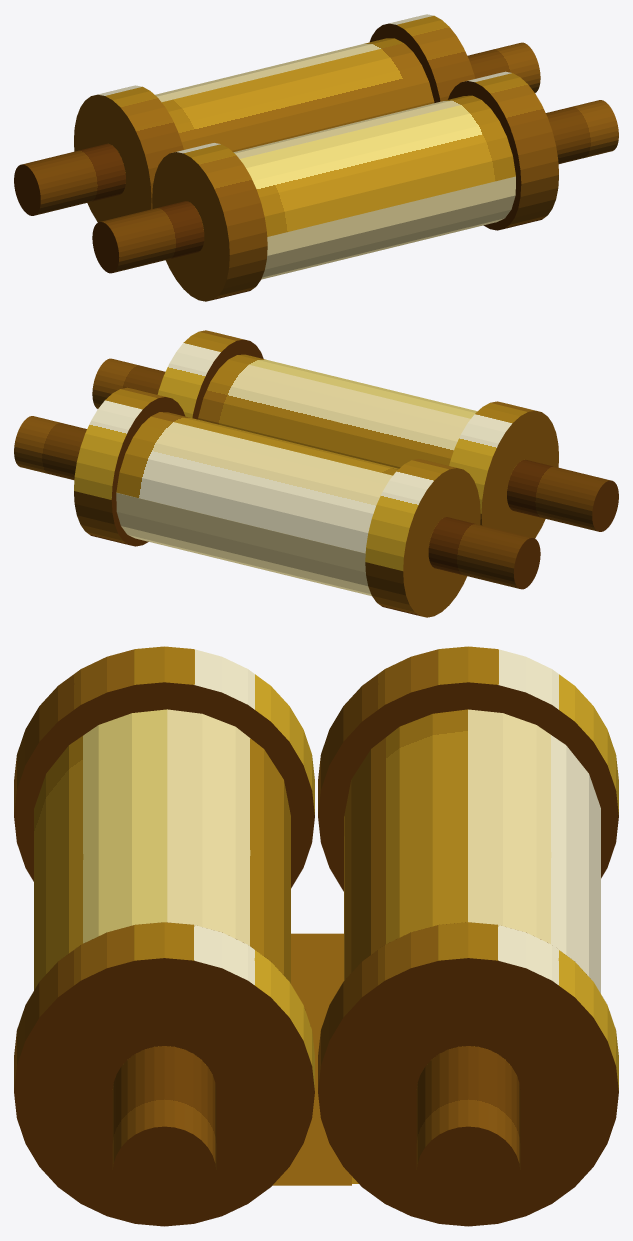
File: scroll_797x00.obj
3 views of the same model, one above another, from view 1: azimuth 30°, elevation 25°; view 2: azimuth 150°, elevation 25°; view 3: azimuth 270°, elevation 25° (orthographic). The views are drawn at different scales.
Parts seen in each view (by area): view 1: Plane; view 2: Plane; view 3: Plane.
Boxes of the visible parts, bbox=[...] form: Plane: bbox=[14, 14, 618, 301]; Plane: bbox=[14, 330, 618, 617]; Plane: bbox=[14, 646, 618, 1226].
Bounding box in the file's own units: 2.2 × 0.582 × 1.19.
